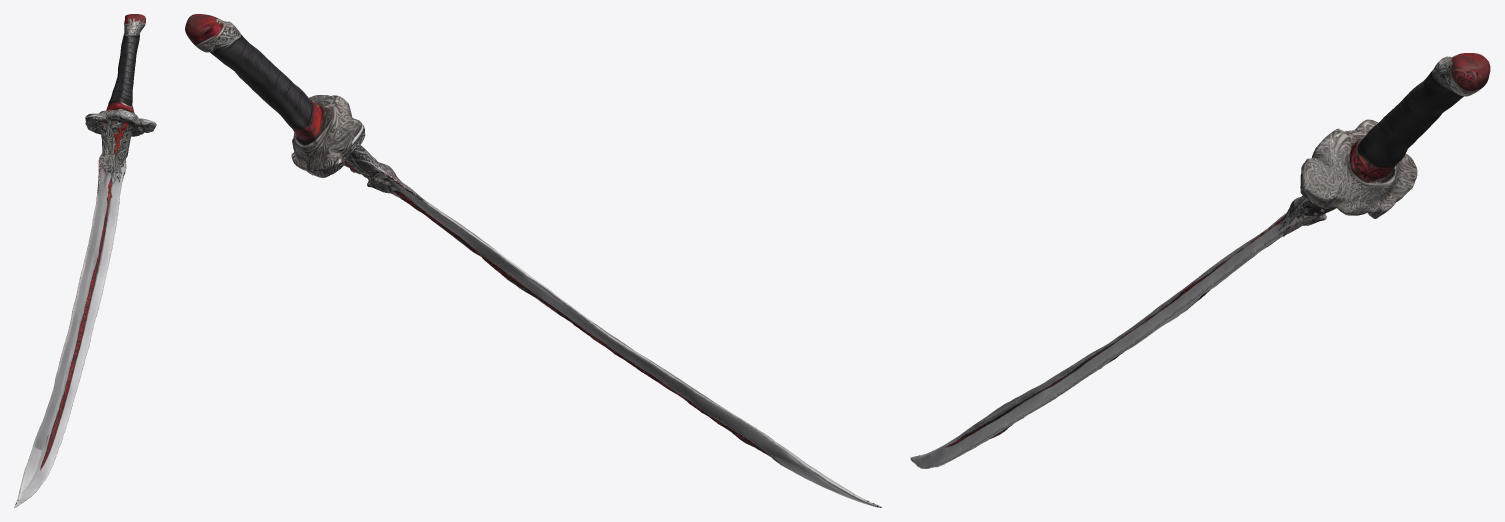
The model's file is Meshy_AI_sword_1029124438_texture.glb.
3 views of the same model, side by side, from view 1: azimuth 30°, elevation 25°; view 2: azimuth 150°, elevation 25°; view 3: azimuth 270°, elevation 25° (orthographic). The views are drawn at different scales.
Bounding box in the file's own units: 1.71 × 1.98 × 1.59.
1 material, 1 textured.
